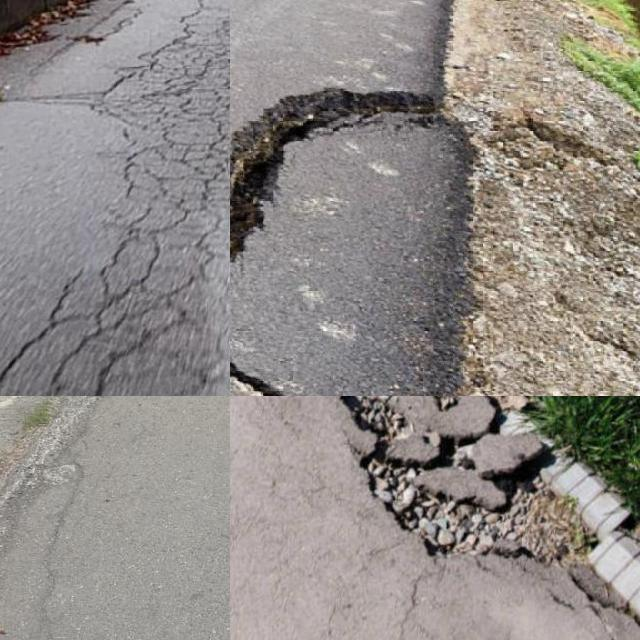Pinggir: (230, 83, 492, 396), (337, 396, 640, 569)
Retak Buaya: (0, 0, 230, 396)
